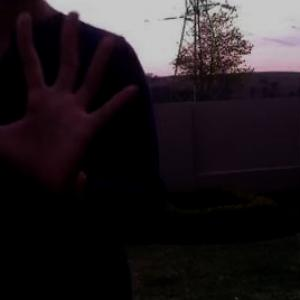follow_hand: (1, 3, 142, 198)
